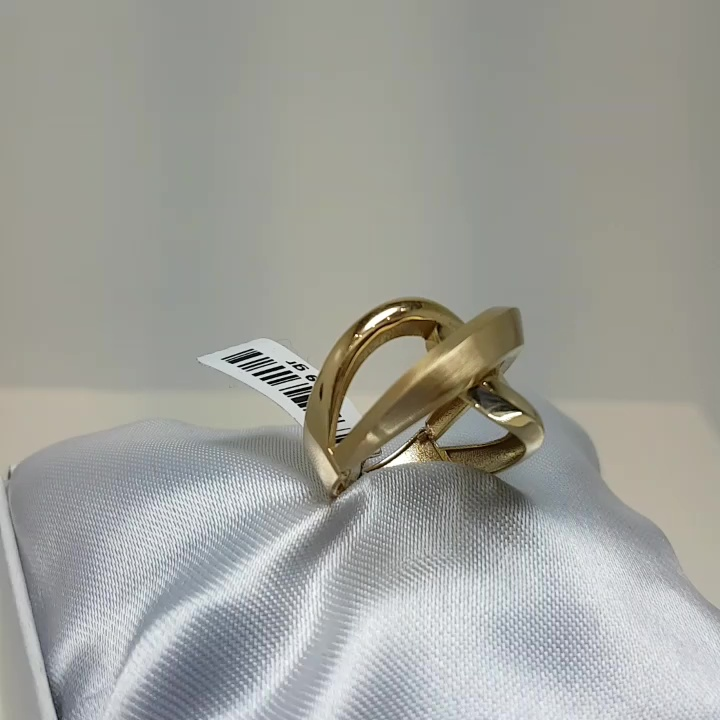Ring 3: (279, 283, 567, 511)
